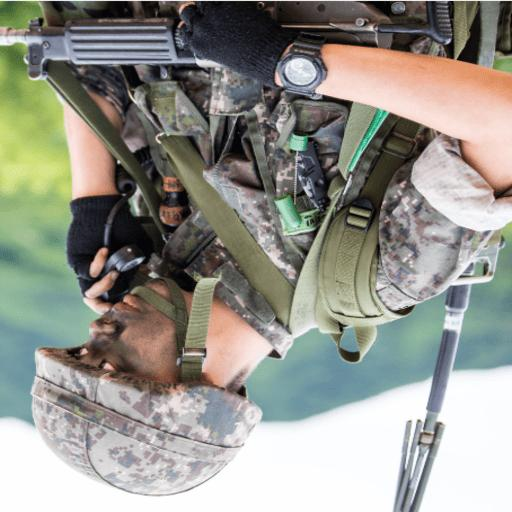korea army: (3, 0, 502, 502)
